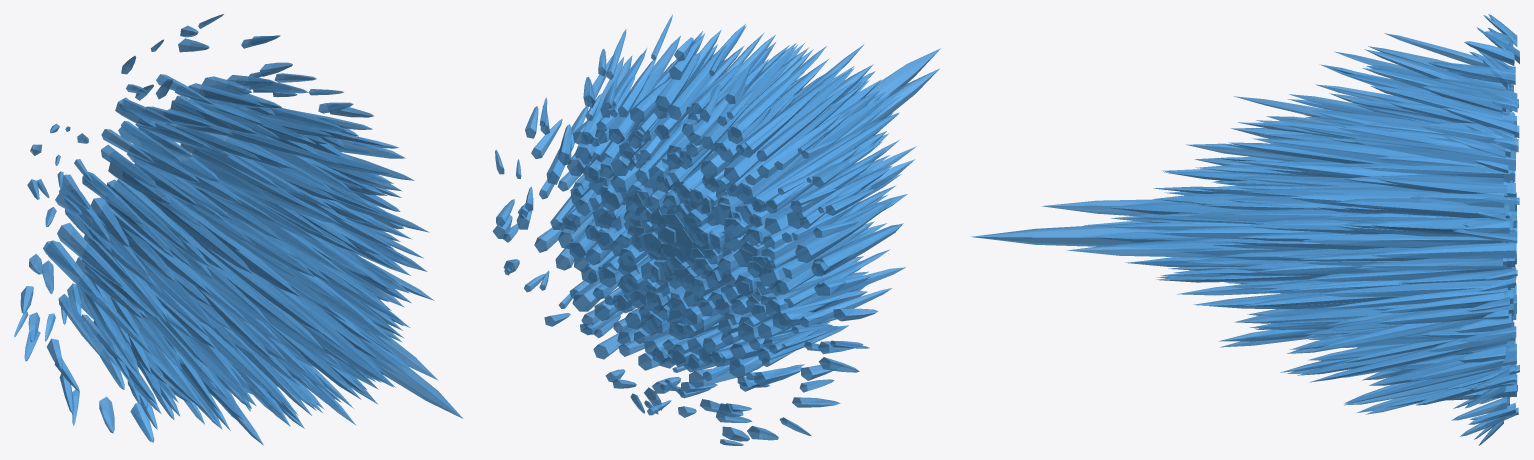
The model's file is 10067_Eiffel_Tower_v1_max2010_it1.obj.
3 views of the same model, side by side, from view 1: azimuth 30°, elevation 25°; view 2: azimuth 150°, elevation 25°; view 3: azimuth 270°, elevation 25° (orthographic).
Visible parts, largest first — view 1: central_left, central_spire, body_064, body_096, body_028, body_027, body_170, body_092, body_063, body_044, body_210, body_132 (+110 smaller); view 2: central_spire, body_205, body_096, body_207, body_210, body_258, body_128, body_215, body_303, body_294, body_298, body_304 (+81 smaller); view 3: central_spire, central_right, body_240, body_153, body_294, body_237, body_236, body_112, body_233, body_090, body_117, body_291 (+78 smaller).
Boxes of the visible parts, x1,y1,x2,y2 form: central_left: (222, 258, 393, 387); central_spire: (299, 297, 462, 418); body_064: (191, 154, 341, 224); body_096: (142, 193, 252, 273); body_028: (199, 243, 324, 349); body_027: (196, 241, 323, 334); body_170: (88, 238, 167, 323); body_092: (180, 143, 308, 208); body_063: (197, 157, 325, 235); body_044: (220, 213, 314, 276); body_210: (57, 222, 122, 286); body_132: (127, 237, 214, 328); central_spire: (658, 48, 940, 266); body_205: (723, 68, 854, 184); body_096: (711, 94, 890, 226); body_207: (752, 112, 899, 212); body_210: (795, 201, 892, 262); body_258: (812, 224, 902, 274); body_128: (743, 128, 865, 214); body_215: (765, 267, 905, 319); body_303: (739, 82, 825, 157); body_294: (609, 36, 680, 144); body_298: (668, 24, 745, 120); body_304: (756, 83, 851, 161); central_spire: (971, 221, 1250, 246); central_right: (1066, 238, 1291, 257); body_240: (1335, 198, 1509, 219); body_153: (1302, 233, 1501, 247); body_294: (1347, 138, 1515, 170); body_237: (1370, 243, 1516, 258); body_236: (1318, 279, 1506, 297); body_112: (1234, 302, 1383, 323); body_233: (1316, 308, 1509, 349); body_090: (1258, 140, 1515, 181); body_117: (1255, 261, 1511, 274); body_291: (1376, 177, 1507, 197).
Size of the model in its own units: 25.47 by 26.42 by 32.
